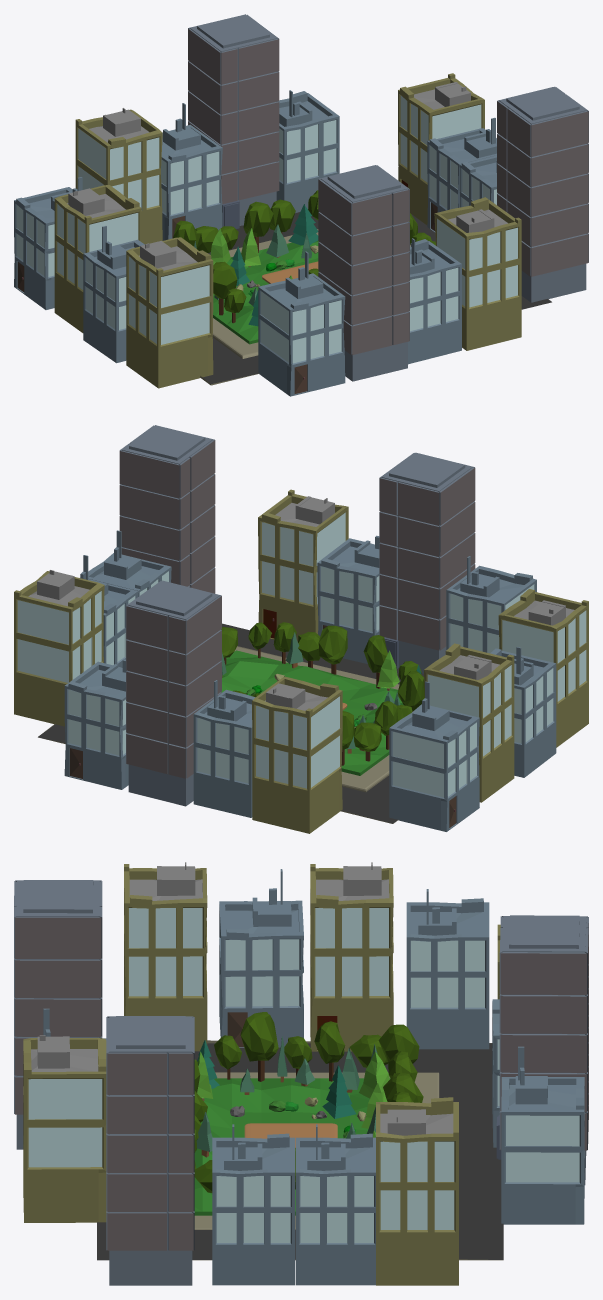
File: Place2_Reflect.fbx
The picture shows the model from 3 angles, top to bottom: view 1: azimuth 30°, elevation 25°; view 2: azimuth 150°, elevation 25°; view 3: azimuth 270°, elevation 25°; orthographic projection. The views are drawn at different scales.
Visible parts, largest first — view 1: Skyscraper_2.001, Skyscraper_2.003, Skyscraper_2.002, Building_1.002, Building_1.011, Building_1.010, Building_1.007, Building_1.009, Building_1.004, Building_1.008, Building_1.006, Building_1.012 (+11 smaller); view 2: Skyscraper_2.002, Skyscraper_2.003, Skyscraper_2.001, Building_1.007, Building_1.004, Building_1, Building_1.011, Building_1.009, Building_1.002, Building_1.006, Building_1.008, Building_1.012 (+14 smaller); view 3: Skyscraper_2.001, Building_1.011, Building_1.004, Skyscraper_2.002, Skyscraper_2.003, Building_1.009, Plane, Building_1.002, Building_1.006, Building_1.005, Building_1, Building_1.003 (+14 smaller).
Boxes of the visible parts, left/top/right/bottom form: Skyscraper_2.001: left=497, top=86, right=588, bottom=302; Skyscraper_2.003: left=318, top=165, right=409, bottom=381; Skyscraper_2.002: left=188, top=14, right=279, bottom=228; Building_1.002: left=126, top=237, right=213, bottom=388; Building_1.011: left=434, top=197, right=521, bottom=350; Building_1.010: left=258, top=251, right=345, bottom=396; Building_1.007: left=75, top=108, right=162, bottom=244; Building_1.009: left=54, top=185, right=141, bottom=332; Building_1.004: left=398, top=73, right=484, bottom=225; Building_1.008: left=161, top=103, right=222, bottom=240; Building_1.006: left=276, top=90, right=339, bottom=212; Building_1.012: left=408, top=238, right=461, bottom=364; Skyscraper_2.002: left=126, top=580, right=221, bottom=806; Skyscraper_2.003: left=379, top=452, right=475, bottom=673; Skyscraper_2.001: left=119, top=425, right=215, bottom=593; Building_1.007: left=252, top=676, right=342, bottom=833; Building_1.004: left=14, top=570, right=104, bottom=726; Building_1: left=389, top=681, right=479, bottom=831; Building_1.011: left=258, top=489, right=348, bottom=641; Building_1.009: left=424, top=643, right=514, bottom=802; Building_1.002: left=498, top=589, right=588, bottom=747; Building_1.006: left=64, top=659, right=128, bottom=789; Building_1.008: left=193, top=680, right=255, bottom=817; Building_1.012: left=317, top=535, right=379, bottom=663; Skyscraper_2.001: left=106, top=1016, right=194, bottom=1285; Building_1.011: left=23, top=1035, right=106, bottom=1222; Building_1.004: left=376, top=1097, right=458, bottom=1285; Skyscraper_2.002: left=496, top=915, right=588, bottom=1184; Skyscraper_2.003: left=14, top=880, right=102, bottom=1149; Building_1.009: left=310, top=862, right=393, bottom=1051; Plane: left=97, top=1040, right=503, bottom=1260; Building_1.002: left=124, top=862, right=207, bottom=1051; Building_1.006: left=501, top=1046, right=584, bottom=1224; Building_1.005: left=212, top=1124, right=294, bottom=1285; Building_1: left=406, top=889, right=489, bottom=1049; Building_1.003: left=295, top=1124, right=375, bottom=1285.
Bounding box in the file's own units: 36878 × 14939 × 32793.
